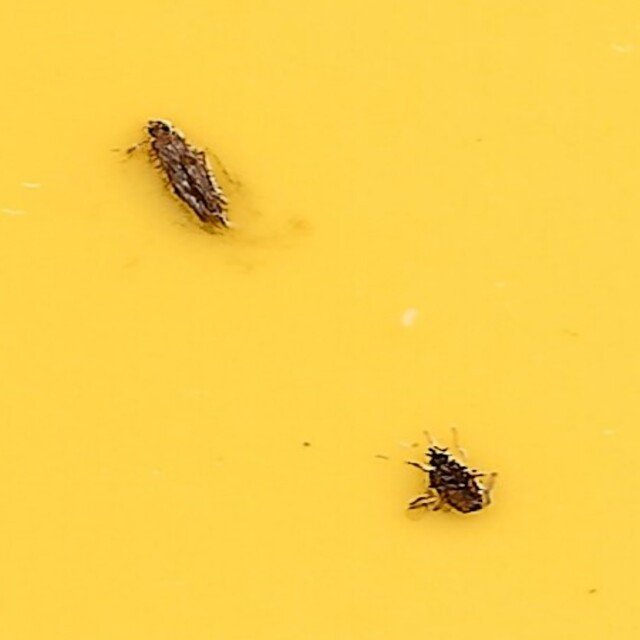Brachycera: (404, 448, 498, 522)
Trichoptera: (142, 118, 232, 236)
